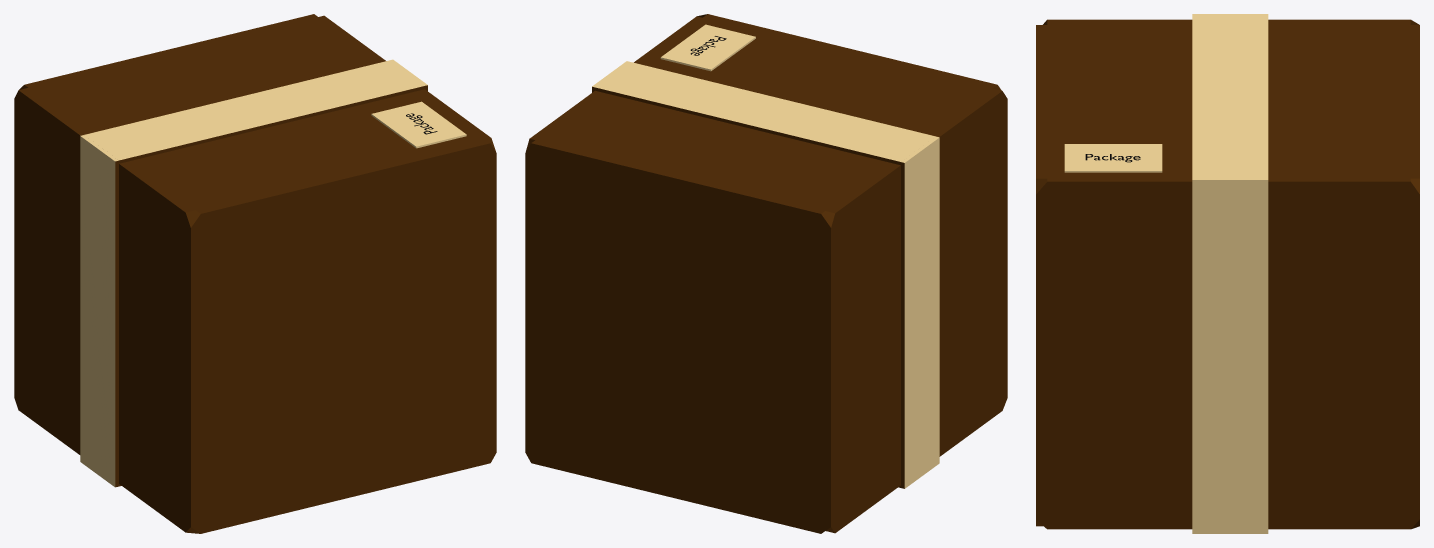
Rendered from Package.fbx.
3 renders of one model, left to right at view 1: azimuth 30°, elevation 25°; view 2: azimuth 150°, elevation 25°; view 3: azimuth 270°, elevation 25°, orthographic. The views are drawn at different scales.
Parts seen in each view (by area): view 1: Cube; view 2: Cube; view 3: Cube.
Part boxes in pixels (box(x1,y1,x2,y2)): Cube: box(14, 14, 496, 533); Cube: box(525, 14, 1007, 533); Cube: box(1036, 14, 1419, 533).
Size of the model in its own units: 252 by 251 by 246.
